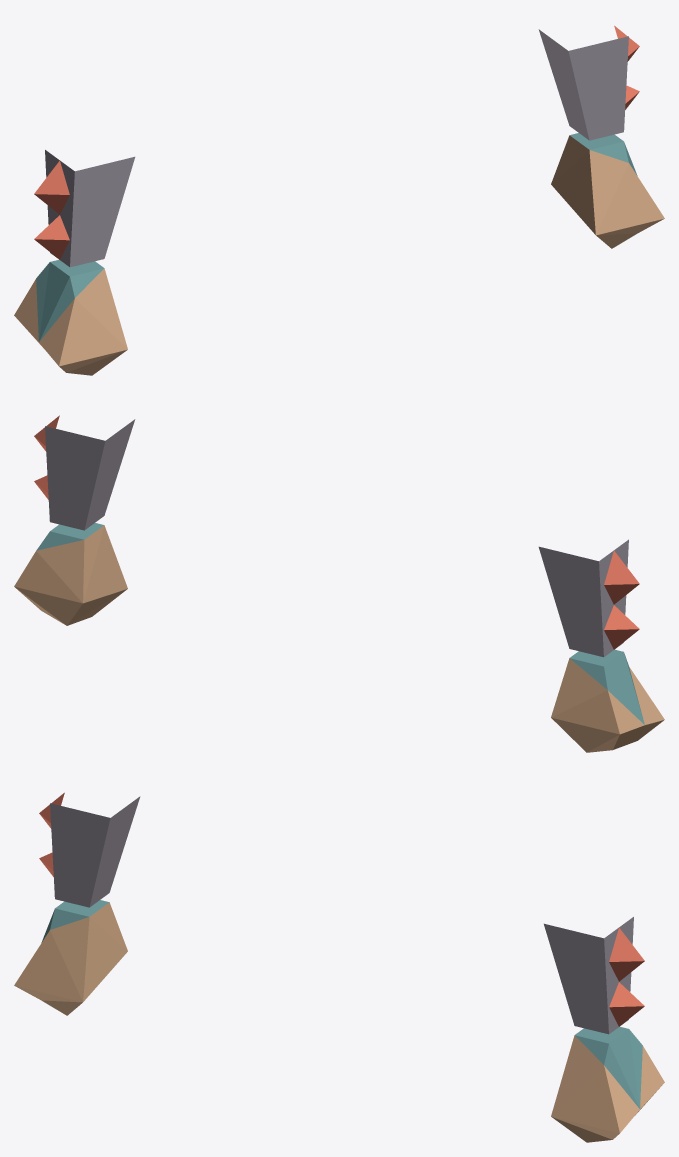
The model's file is player_hueycoatl_hide_vambraces.glb.
The picture shows the model from 3 angles, top to bottom: view 1: azimuth 30°, elevation 25°; view 2: azimuth 150°, elevation 25°; view 3: azimuth 330°, elevation 25°; orthographic projection.
Bounding box in the file's own units: 69.98 × 23.02 × 9.
Materials: 1 (1 with a texture image).
